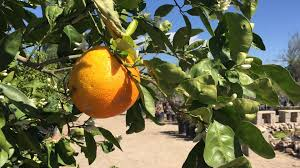orange: (65, 48, 146, 119)
